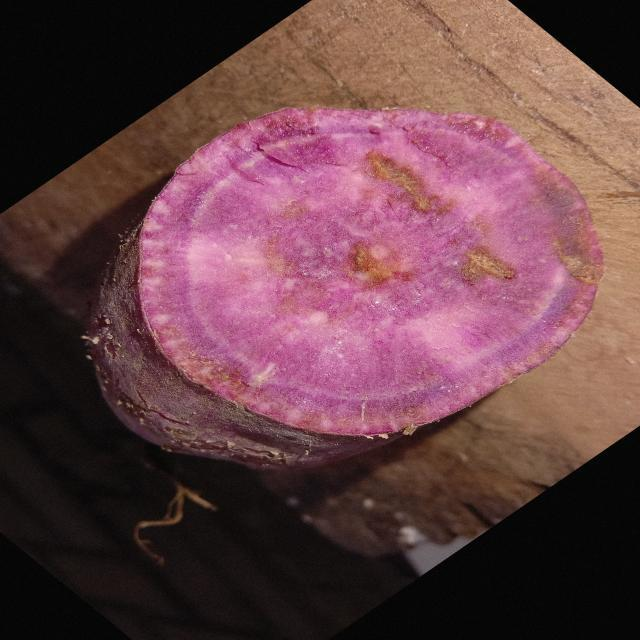Sick Sweet Potato_Tuber Rot: (140, 109, 602, 434)
